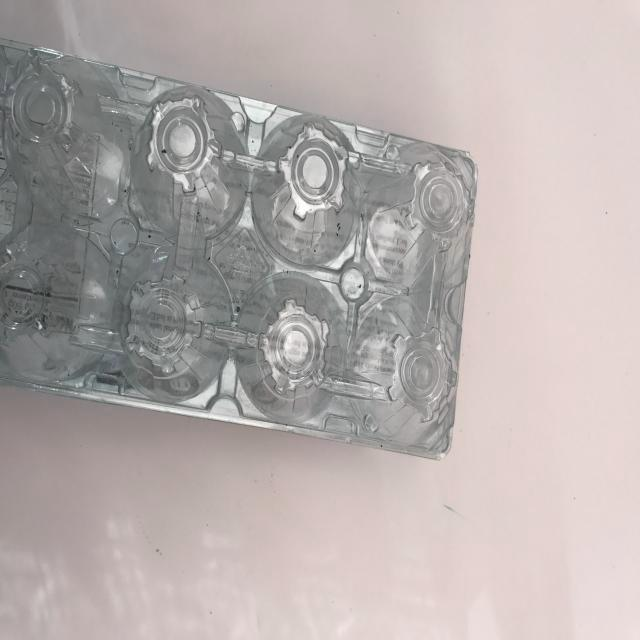plastic: (0, 20, 490, 531)
